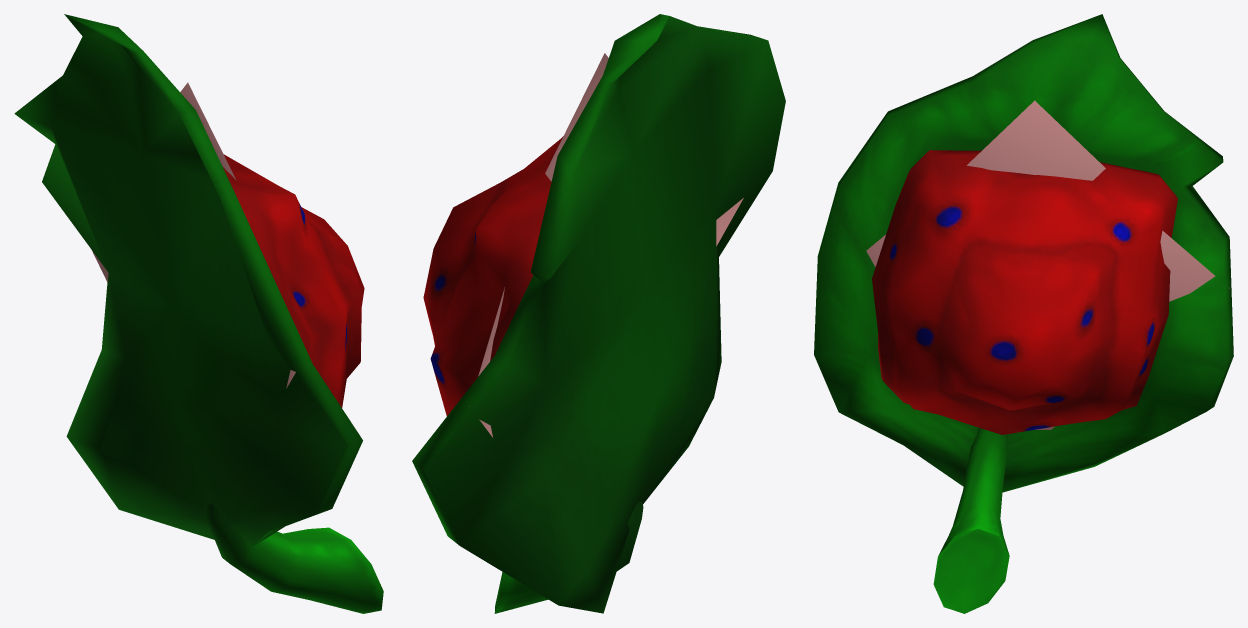
3 views of the same model, side by side, from view 1: azimuth 30°, elevation 25°; view 2: azimuth 150°, elevation 25°; view 3: azimuth 270°, elevation 25° (orthographic). The views are drawn at different scales.
Parts seen in each view (by area): view 1: "Editable Poly", PolyMesh; view 2: "Editable Poly", PolyMesh; view 3: "Editable Poly", PolyMesh.
Part boxes in pixels (x1,y1,x2,y2): "Editable Poly": (14, 14, 383, 613); PolyMesh: (92, 82, 295, 388); "Editable Poly": (412, 14, 785, 613); PolyMesh: (469, 53, 743, 437); "Editable Poly": (814, 14, 1233, 613); PolyMesh: (866, 100, 1229, 429).
Size of the model in its own units: 0.2304 by 0.571 by 0.4271.
